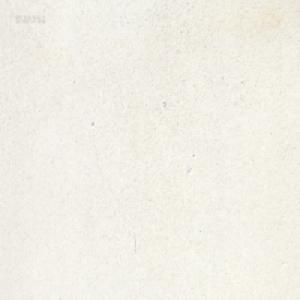Washer: (162, 100, 165, 106)
